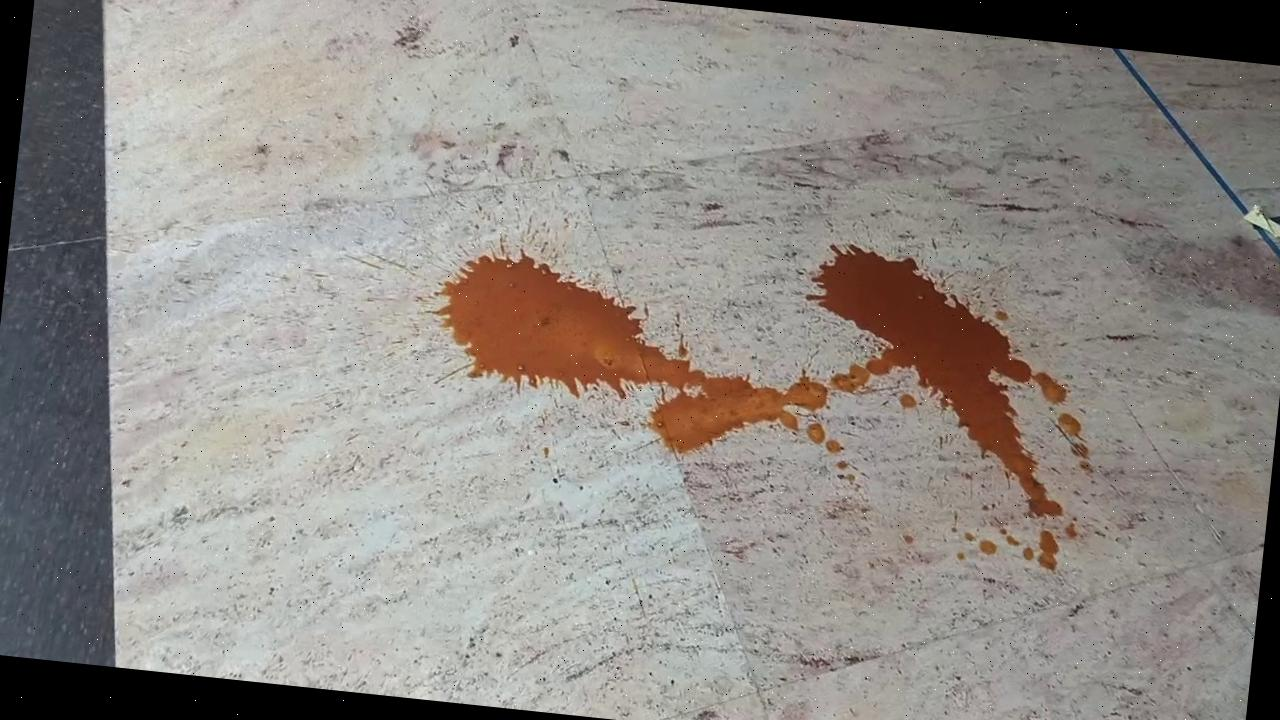dirty_floor: (421, 200, 1123, 574)
